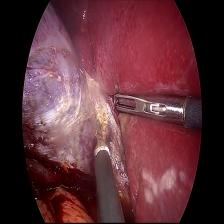Grasper: (110, 87, 190, 137)
Hook: (90, 119, 110, 162)
